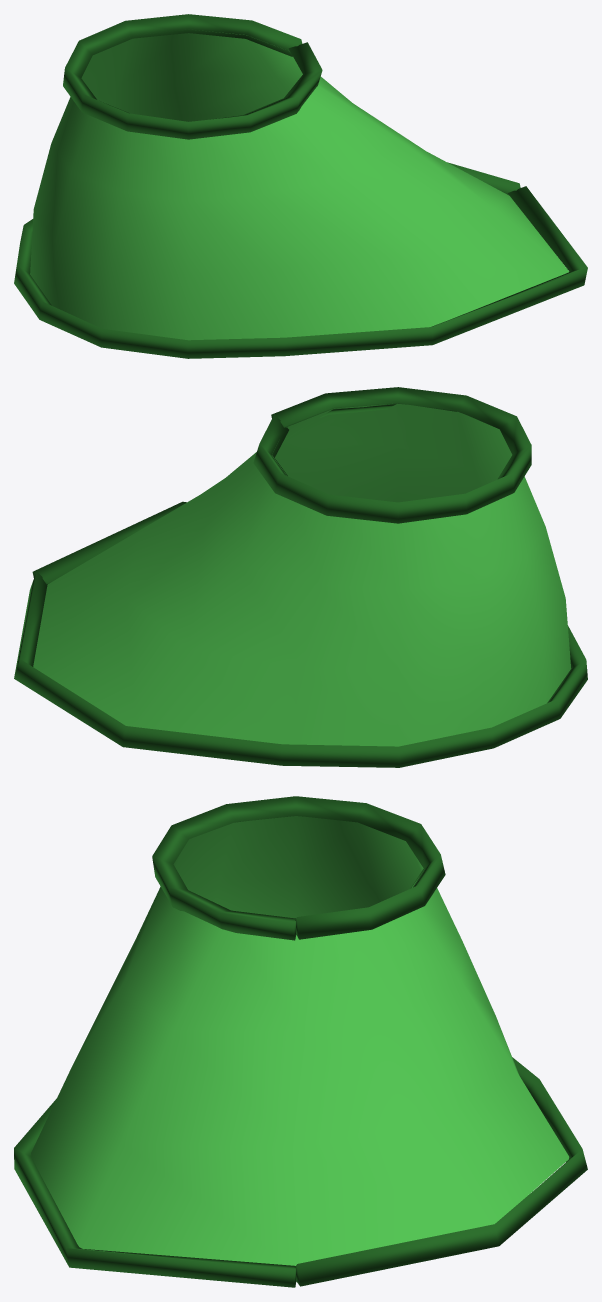
File: chlorophyte_armor_pauldron.L.glb
The picture shows the model from 3 angles, top to bottom: view 1: azimuth 30°, elevation 25°; view 2: azimuth 150°, elevation 25°; view 3: azimuth 270°, elevation 25°; orthographic projection. The views are drawn at different scales.
Parts seen in each view (by area): view 1: chlorophyte_armor_pauldron.L; view 2: chlorophyte_armor_pauldron.L; view 3: chlorophyte_armor_pauldron.L.
Boxes of the visible parts, x1,y1,x2,y2 form: chlorophyte_armor_pauldron.L: (14,14,587,358); chlorophyte_armor_pauldron.L: (14,387,587,767); chlorophyte_armor_pauldron.L: (14,796,587,1287).
Size of the model in its own units: 0.3835 by 0.1645 by 0.3439.
